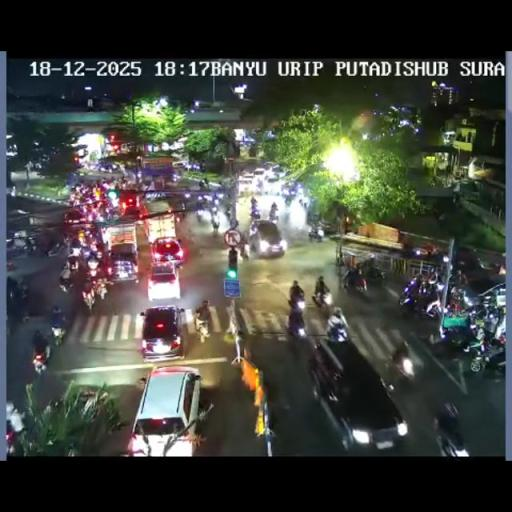Car: (307, 335, 404, 449), (128, 364, 202, 454), (138, 304, 185, 361), (146, 260, 182, 302), (248, 219, 286, 257), (108, 242, 140, 284), (150, 236, 184, 267), (118, 190, 142, 216), (62, 208, 85, 226), (238, 174, 254, 192), (252, 168, 267, 187), (269, 164, 286, 180)
Motorcycle: (194, 186, 238, 232), (434, 401, 470, 454), (465, 331, 504, 374), (400, 280, 442, 319), (437, 307, 476, 349), (467, 291, 504, 331), (387, 352, 416, 386), (74, 387, 104, 417), (6, 294, 30, 330), (31, 339, 51, 374), (342, 269, 368, 295), (287, 308, 307, 338), (326, 318, 348, 343), (312, 286, 333, 312), (447, 286, 468, 312), (5, 420, 21, 454), (362, 262, 384, 286), (76, 242, 100, 263), (230, 326, 244, 361), (50, 320, 68, 346), (82, 284, 96, 314), (194, 316, 210, 342), (58, 266, 74, 292), (289, 287, 305, 310), (95, 280, 109, 302), (452, 269, 468, 286), (308, 226, 324, 242), (102, 202, 116, 220), (23, 239, 38, 255), (43, 238, 56, 256), (66, 255, 80, 271), (18, 282, 29, 302), (238, 240, 248, 261), (195, 204, 205, 222), (222, 202, 232, 218), (249, 208, 261, 221), (490, 262, 503, 274), (268, 209, 279, 223), (428, 270, 438, 284), (197, 194, 208, 206), (211, 218, 219, 234), (210, 202, 219, 216), (174, 209, 183, 223), (284, 194, 294, 206), (250, 220, 258, 234), (170, 172, 181, 182), (250, 196, 258, 208), (198, 179, 206, 190), (142, 181, 150, 192), (302, 198, 309, 210), (232, 218, 238, 228), (180, 200, 186, 210), (184, 190, 190, 200)
